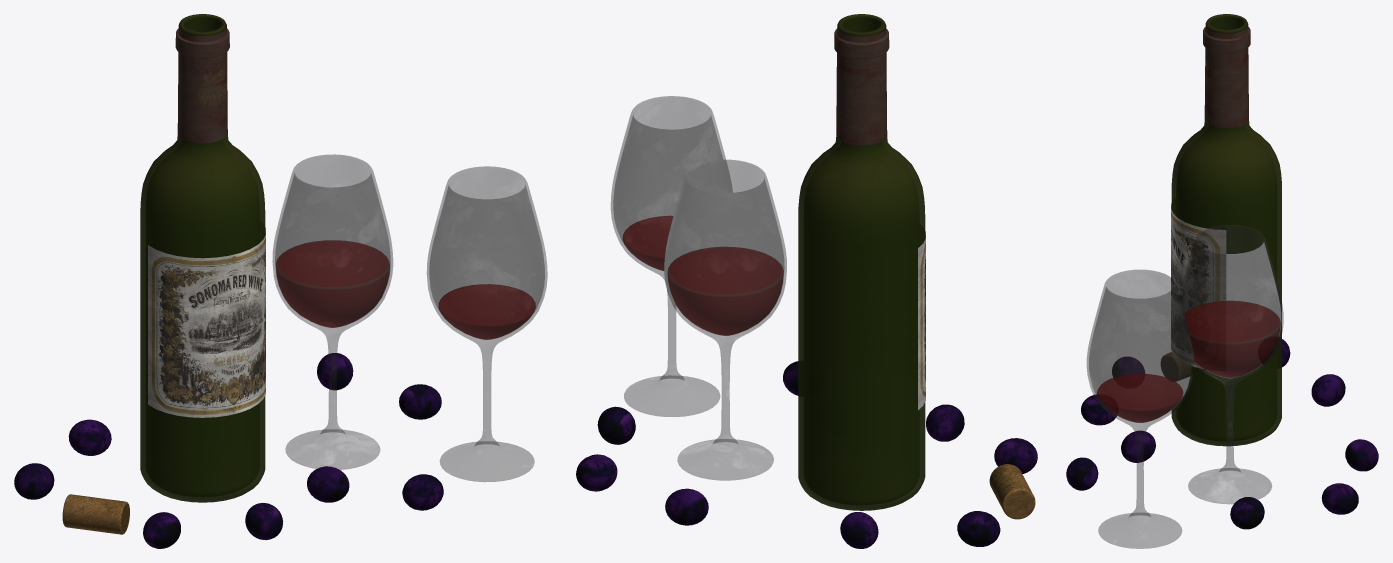
The model's file is wine_objects.glb.
3 views of the same model, side by side, from view 1: azimuth 30°, elevation 25°; view 2: azimuth 150°, elevation 25°; view 3: azimuth 270°, elevation 25° (orthographic). The views are drawn at different scales.
Visible parts, largest first — view 1: Glass2, Wineglass:F; view 2: Glass2, Wineglass:F; view 3: Glass2, Wineglass:F.
Boxes of the visible parts, x1,y1,x2,y2 form: Glass2: (140,14,547,502); Wineglass:F: (14,25,443,548); Glass2: (611,14,925,510); Wineglass:F: (576,25,1037,548); Glass2: (1087,14,1283,548); Wineglass:F: (1066,24,1378,529).
Size of the model in its own units: 9.57 by 9.4 by 6.53.
Materials: 2 (2 with a texture image).
